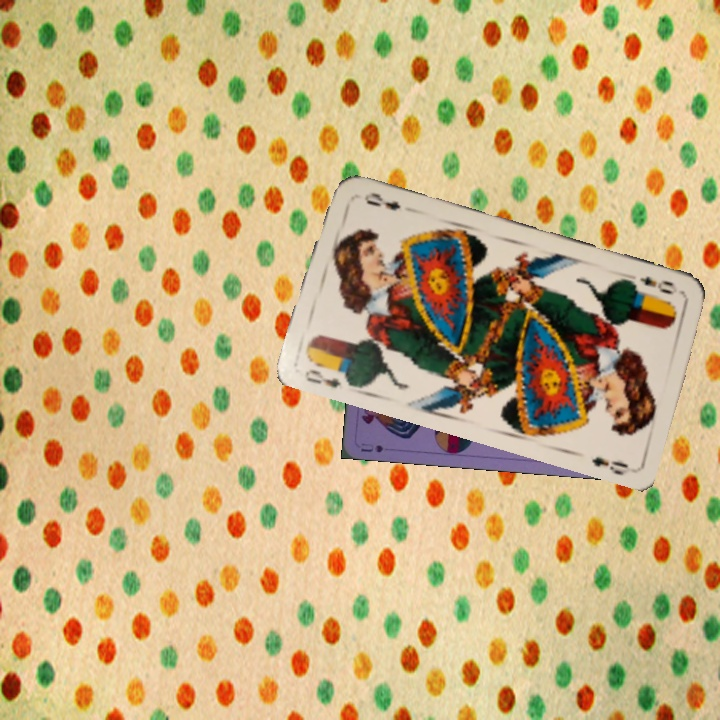EO: (300, 365, 344, 391), (635, 272, 677, 297)
SU: (357, 439, 386, 455)
